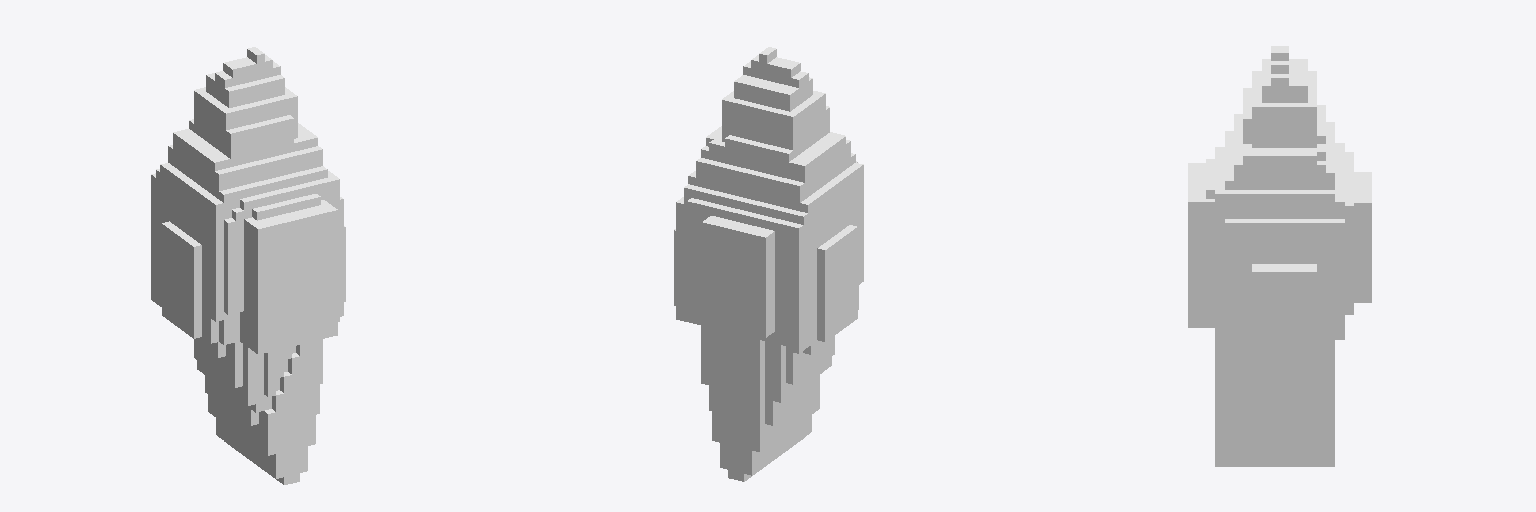
The model's file is Eruption-45.obj.
The picture shows the model from 3 angles: view 1: azimuth 30°, elevation 25°; view 2: azimuth 150°, elevation 25°; view 3: azimuth 270°, elevation 25°; orthographic projection.
Visible parts, largest first — view 1: object 1; view 2: object 1; view 3: object 1.
Boxes of the visible parts, x1=… form: object 1: x1=151, y1=47, x2=345, y2=484; object 1: x1=674, y1=47, x2=863, y2=481; object 1: x1=1188, y1=46, x2=1371, y2=466.
Bounding box in the file's own units: 1.9 × 4.9 × 2.